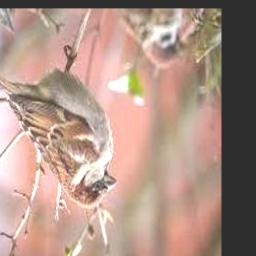Sparrow: (0, 48, 117, 209)
